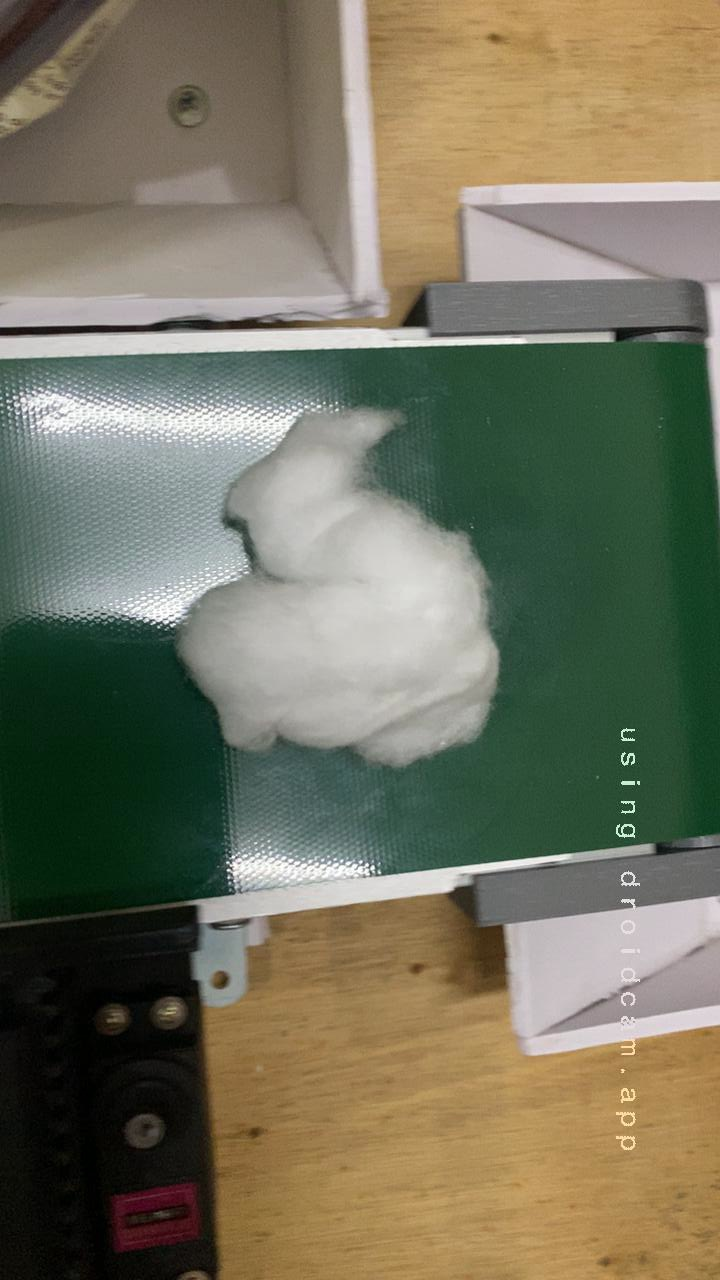cotton: (152, 382, 553, 799)
